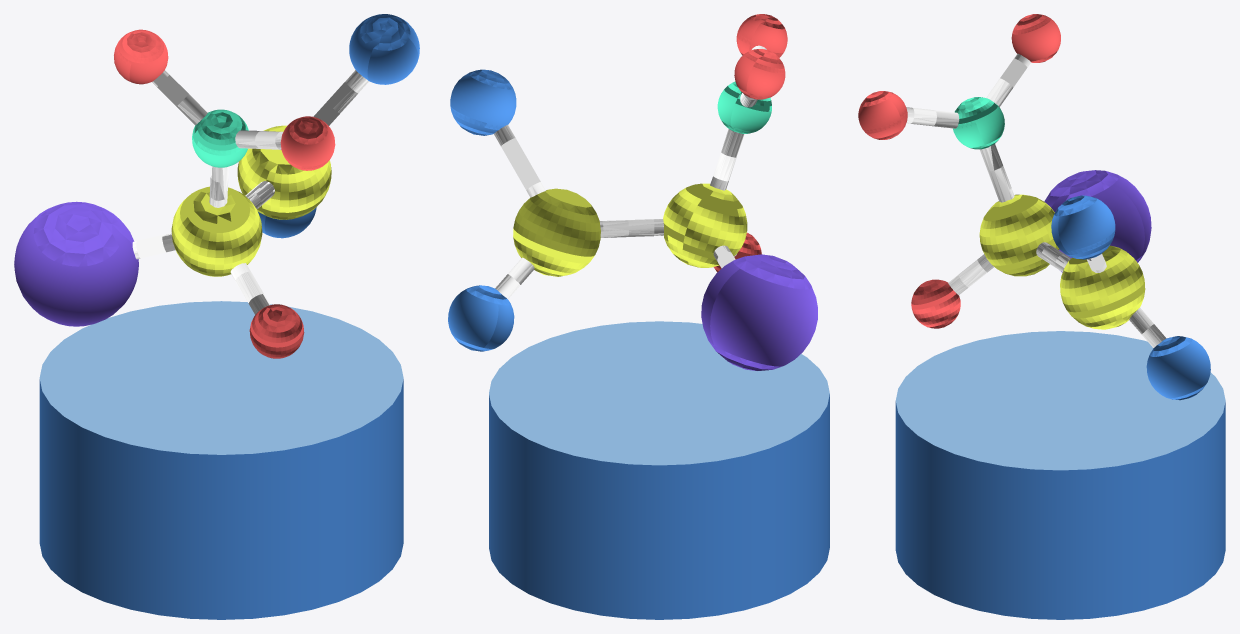
File: 氨基酸.FBX
3 renders of one model, left to right at view 1: azimuth 30°, elevation 25°; view 2: azimuth 150°, elevation 25°; view 3: azimuth 270°, elevation 25°, orthographic. The views are drawn at different scales.
Visible parts, largest first — view 1: Cylinder001, Sphere004; view 2: Cylinder001, Sphere004; view 3: Cylinder001, Sphere004.
Part boxes in pixels (x1,y1,x2,y2): Cylinder001: (39, 301, 403, 619); Sphere004: (14, 14, 419, 358); Cylinder001: (489, 321, 829, 619); Sphere004: (448, 14, 817, 370); Cylinder001: (895, 331, 1225, 619); Sphere004: (858, 14, 1210, 400).
Size of the model in its own units: 980 by 1318 by 891.
